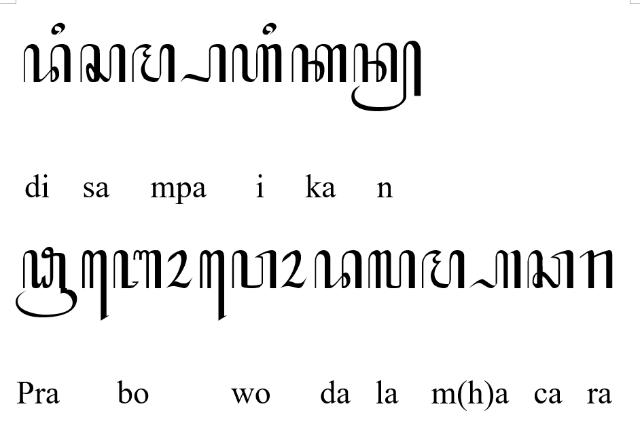-n: (351, 40, 421, 112)
Pr: (16, 248, 78, 318)
_h: (468, 250, 520, 290)
_p: (180, 43, 227, 82)
b: (113, 250, 163, 290)
c: (526, 249, 574, 289)
d: (314, 249, 362, 290), (23, 43, 71, 82)
e1: (81, 250, 109, 322), (199, 250, 227, 322)
h: (232, 43, 282, 82)
i: (50, 22, 66, 34), (262, 23, 276, 35)
k: (291, 43, 347, 83)
l: (368, 250, 417, 290)
m: (420, 249, 466, 289), (132, 43, 176, 83)
o: (164, 250, 192, 288), (280, 250, 306, 288)
r: (579, 249, 613, 289)
s: (80, 42, 126, 84)
w: (232, 250, 276, 289)
